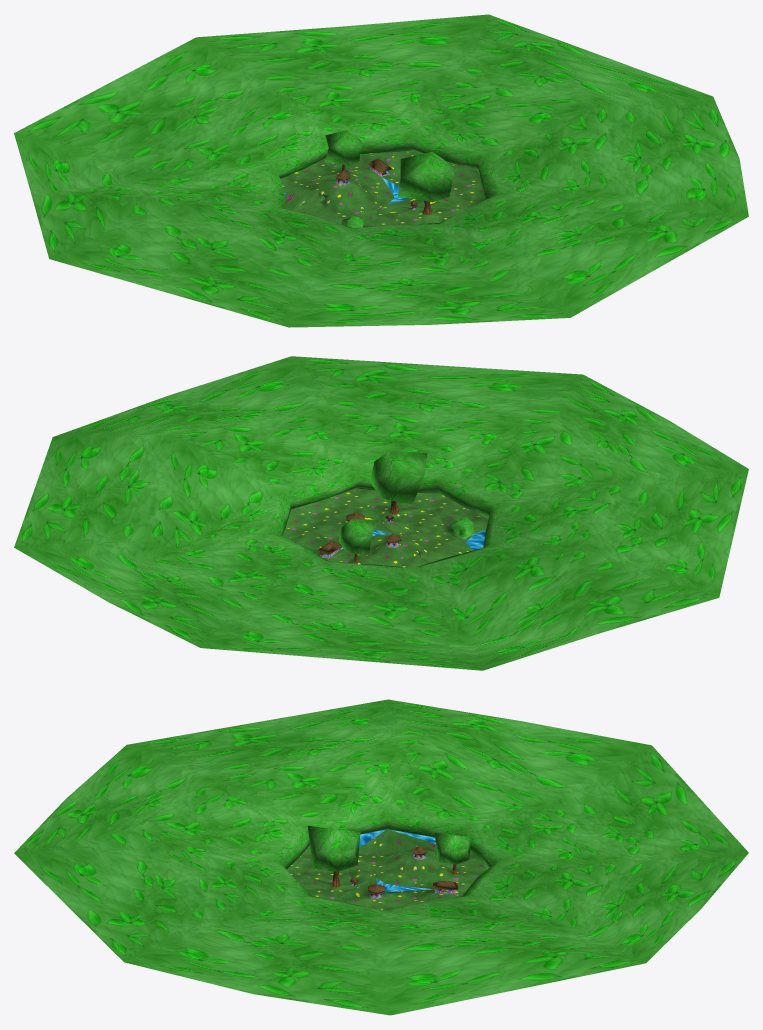
File: ENVO_FairyVillage.obj
The picture shows the model from 3 angles, top to bottom: view 1: azimuth 30°, elevation 25°; view 2: azimuth 150°, elevation 25°; view 3: azimuth 270°, elevation 25°; orthographic projection. The views are drawn at different scales.
Parts seen in each view (by area): view 1: FairyVillage; view 2: FairyVillage; view 3: FairyVillage.
Part boxes in pixels (bbox=[...]): FairyVillage: bbox=[14, 14, 748, 327]; FairyVillage: bbox=[14, 356, 748, 670]; FairyVillage: bbox=[14, 699, 748, 1015].
Size of what is drawn, in the model's own units: 21591 by 1971 by 21273.
Materials: 6 (6 with a texture image).
